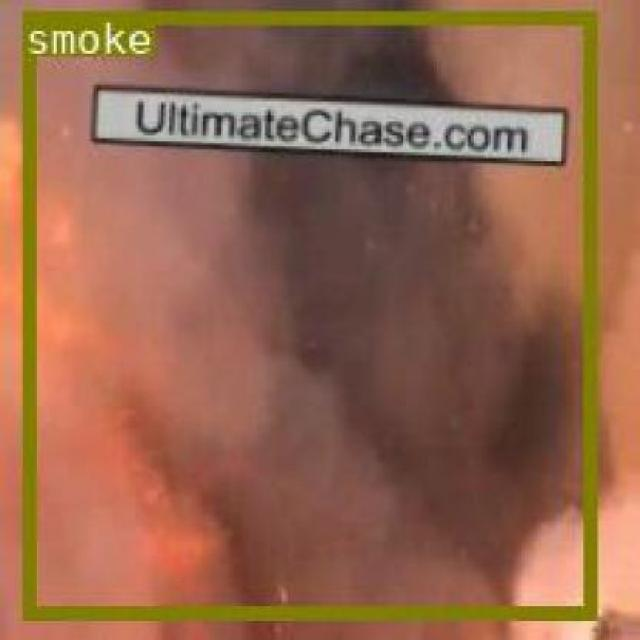Smoke: (20, 11, 594, 616)
